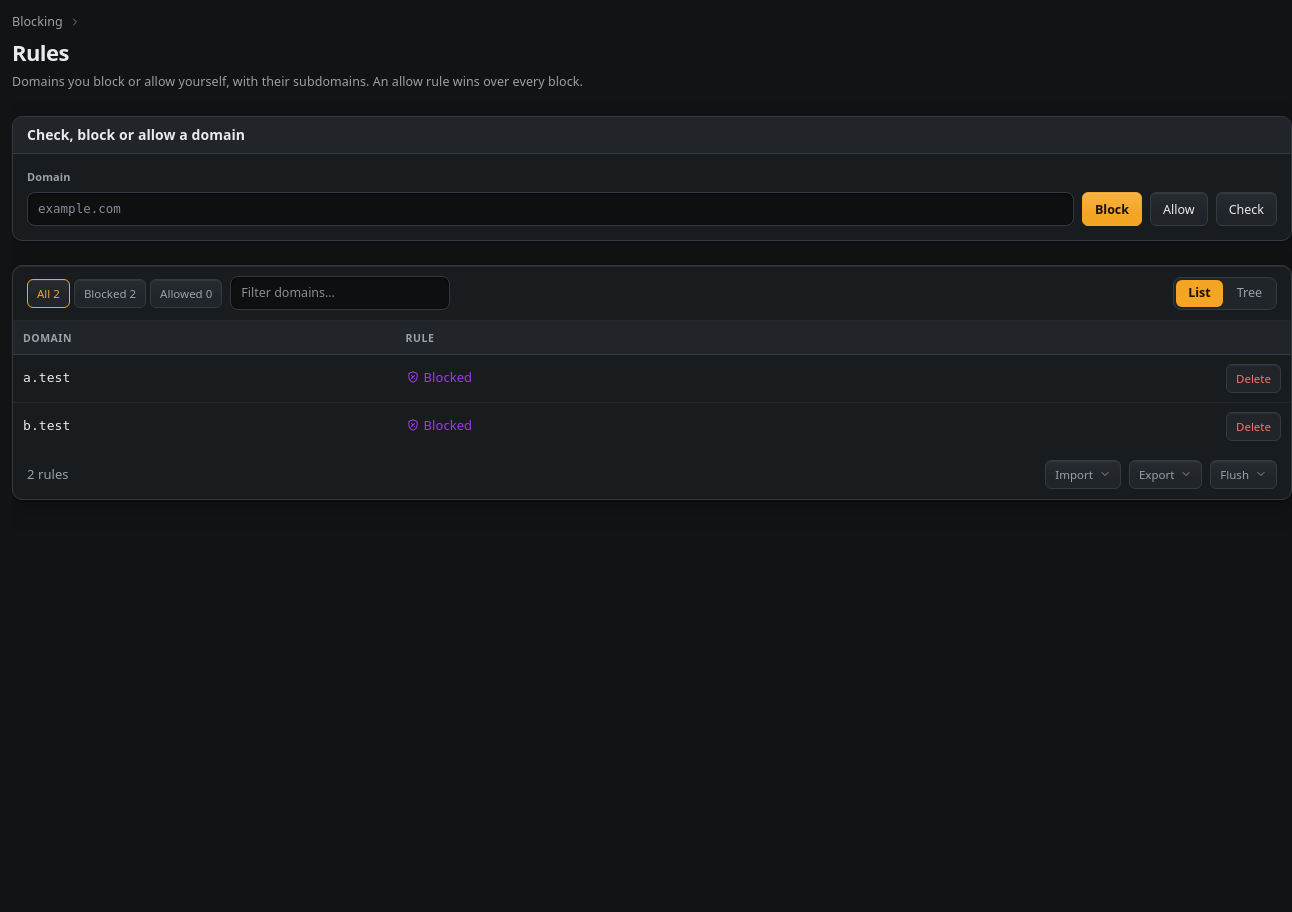
Test: Rules: Delete with Undo › a Delete after the notice said "back" starts a new one
Click the button with aria-label "Delete a.test".
click(1254, 378)  # box [1226,364,1281,393]
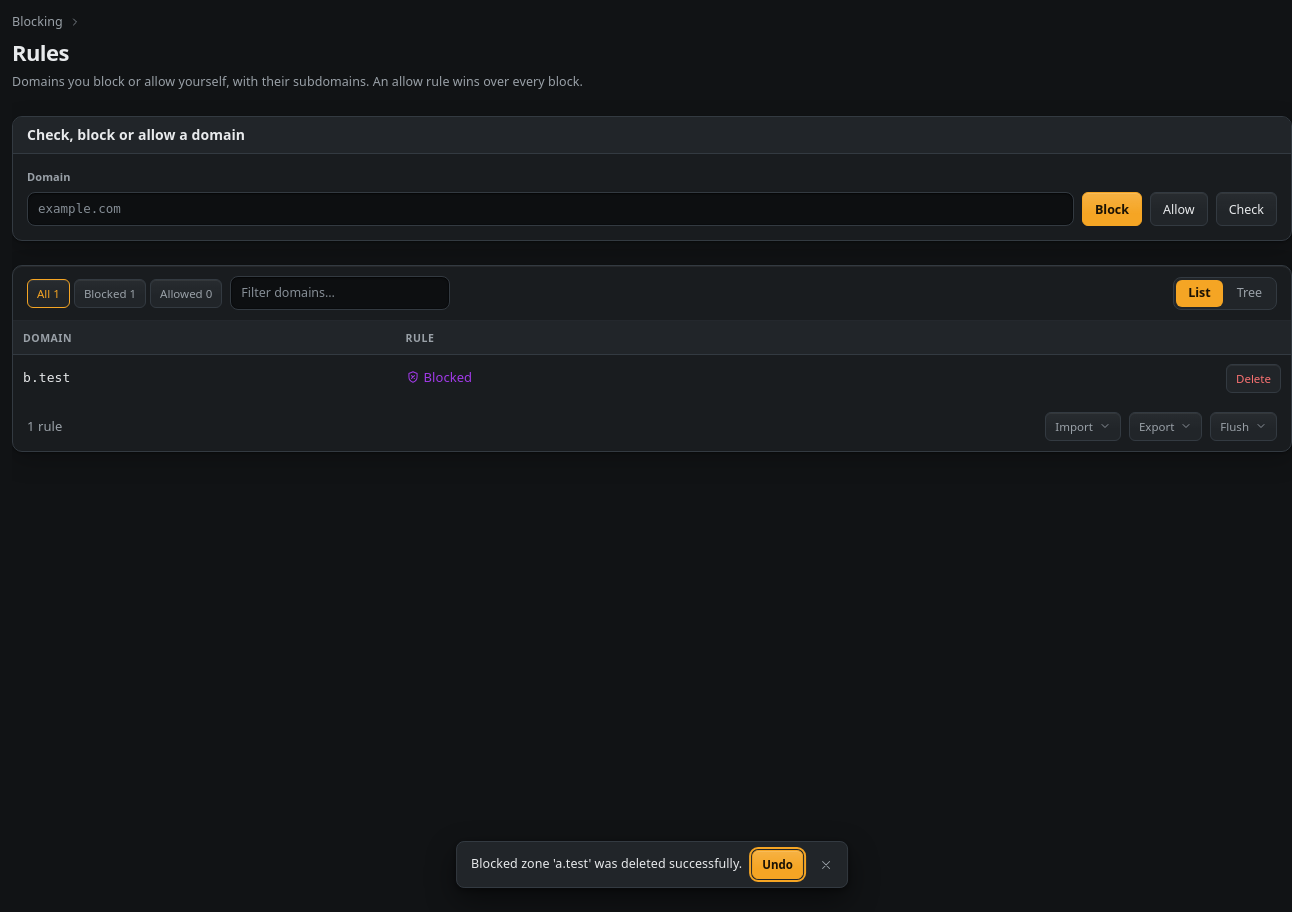
Click the button "Undo".
click(778, 864)  # box [752,850,803,879]
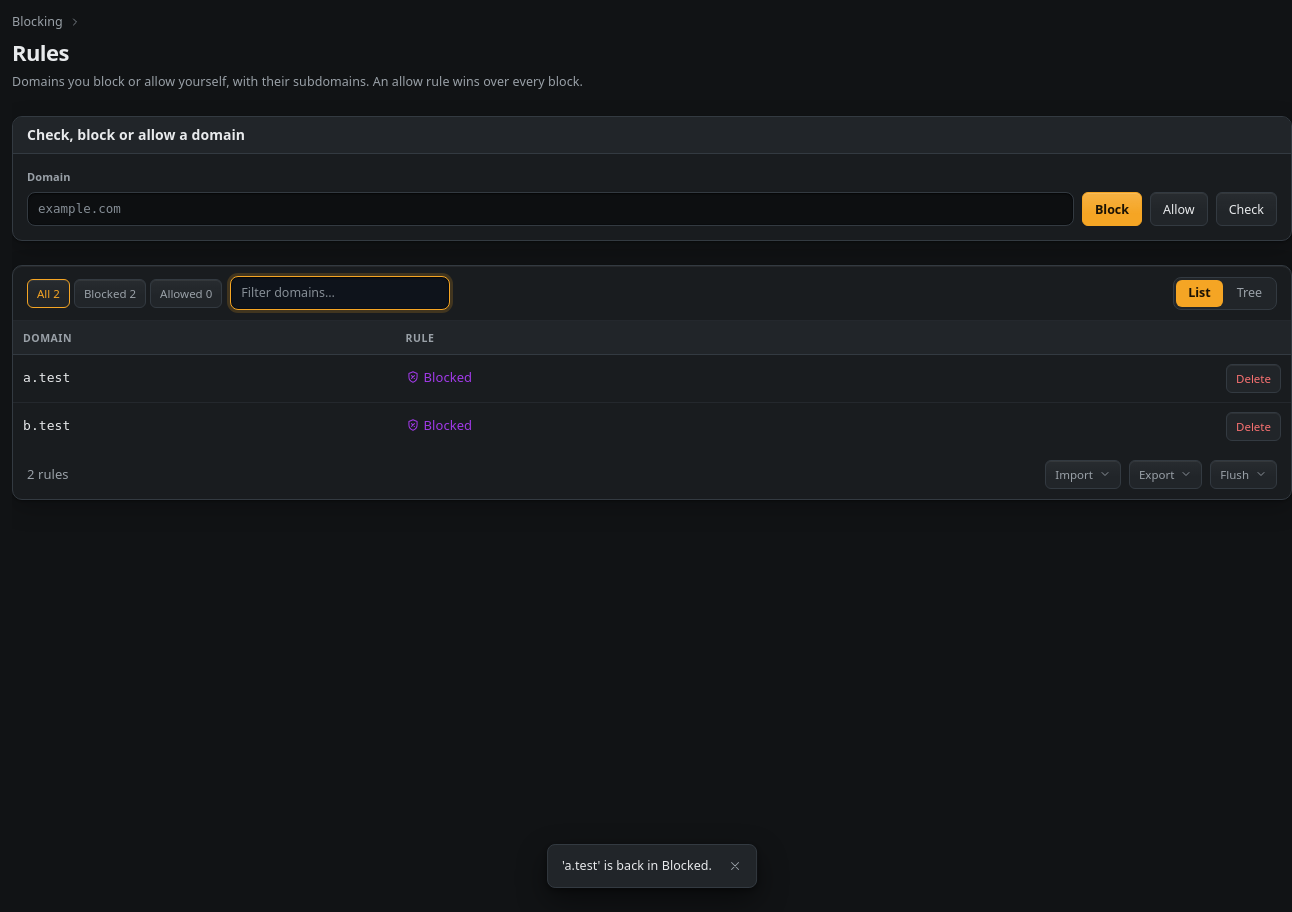
Check: the text "'a.test' is back in Blocked." is shown, box [562,857,712,875]
Click the button "Delete" in the row of "b.".
click(1254, 426)  # box [1226,412,1281,441]
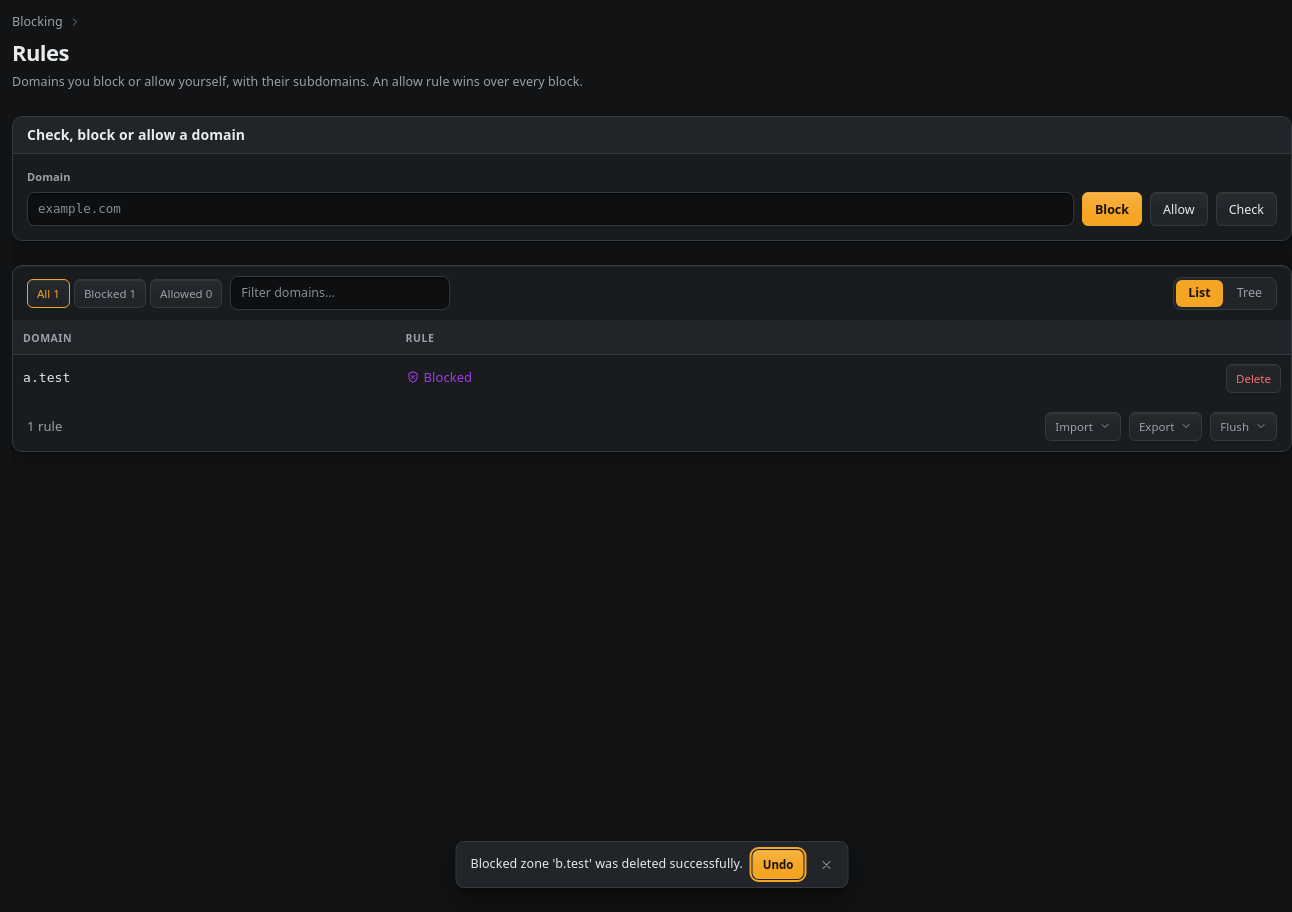
Check: the message reads "Blocked zone 'b.test' was deleted successfully.", box [470,855,743,872]
